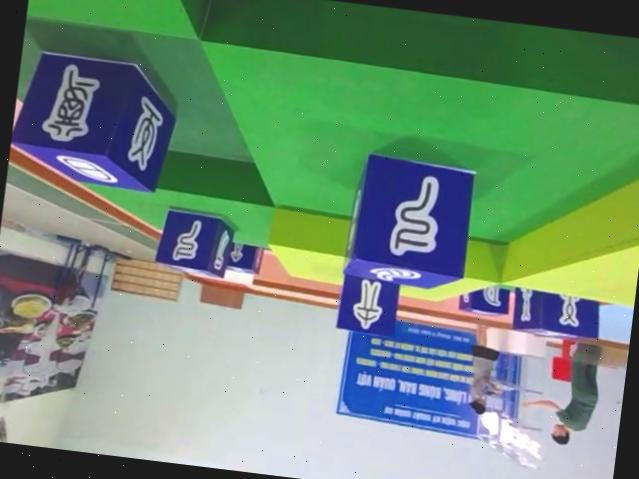R2 Fake Blue: (6, 47, 178, 193), (337, 147, 474, 291), (152, 205, 234, 279), (333, 271, 399, 337)
R2 Real Blue: (509, 283, 603, 340), (458, 281, 512, 317), (225, 242, 266, 275)
